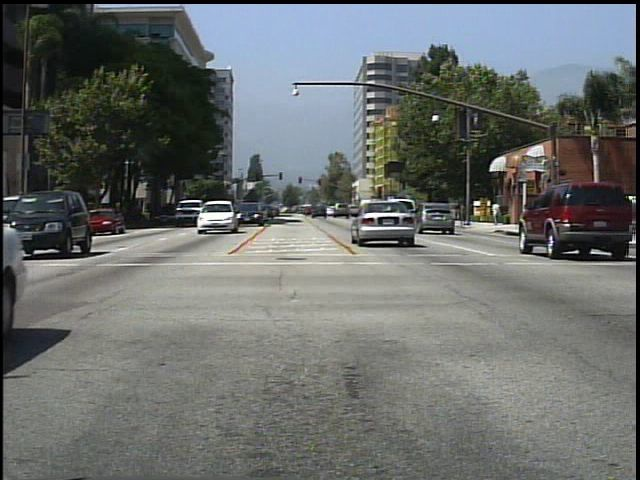person: (447, 194, 465, 229), (491, 197, 502, 227)
